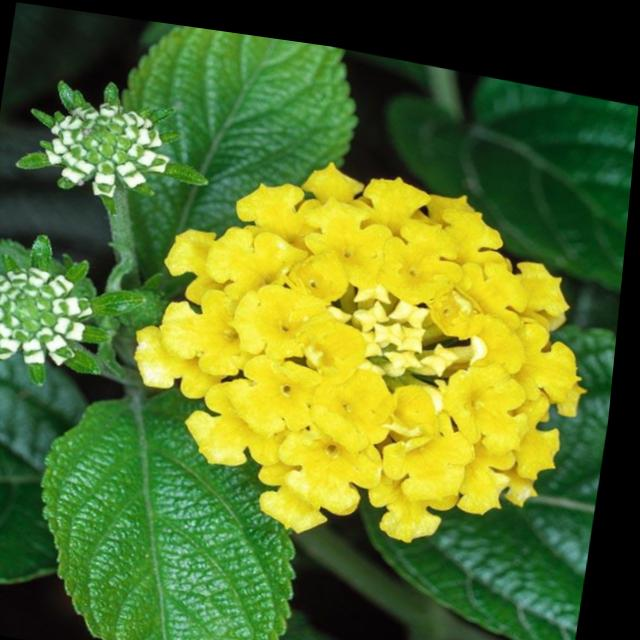Flower: (111, 99, 630, 546)
